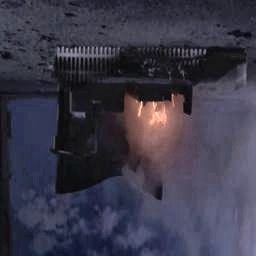fire: (128, 100, 177, 142)
smoke: (123, 138, 256, 256)
